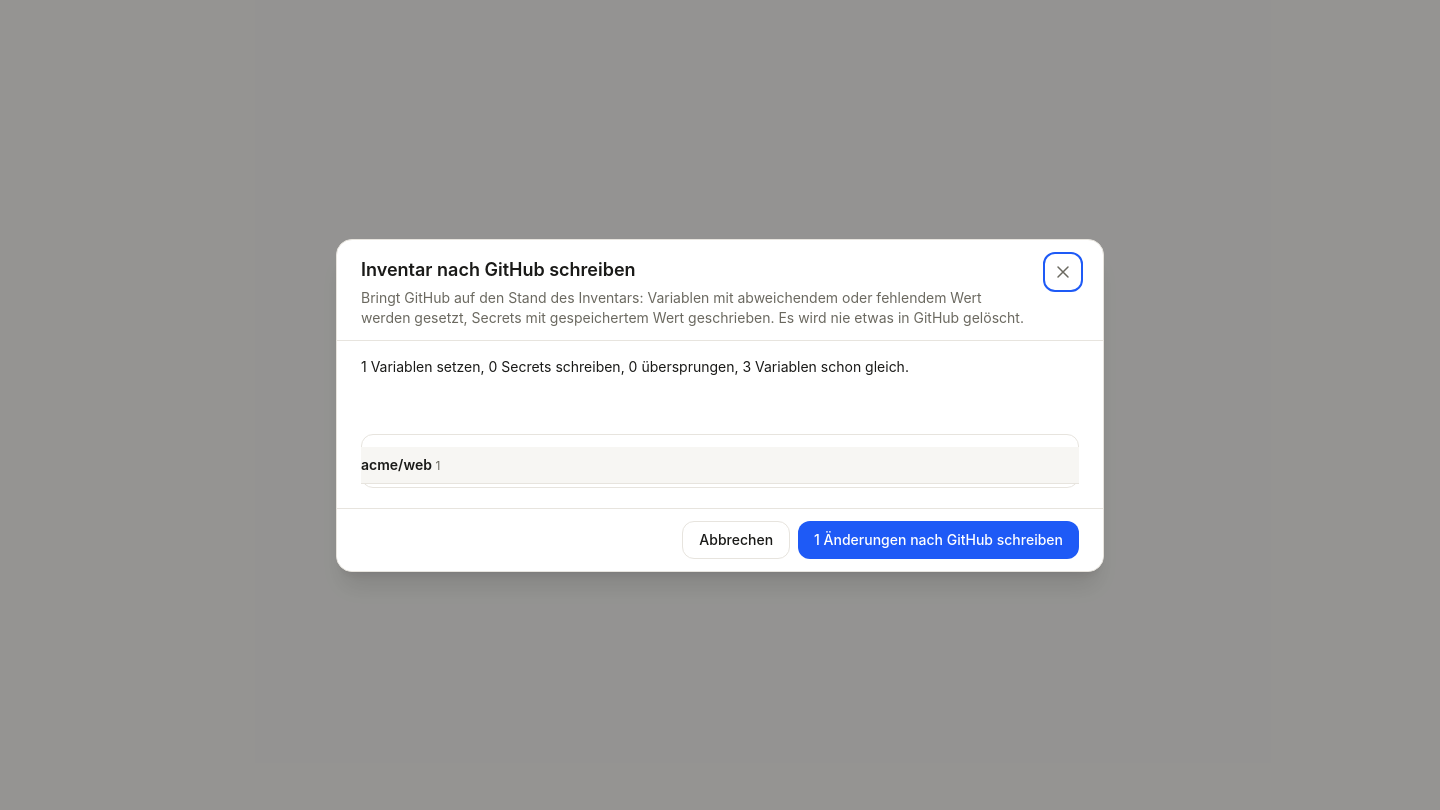
Test: SyncToGitHubDialog run › does not close while running
Click the button "1 Änderungen nach GitHub schreiben".
click(939, 540)  # box x1=798 y1=520 x2=1079 y2=558
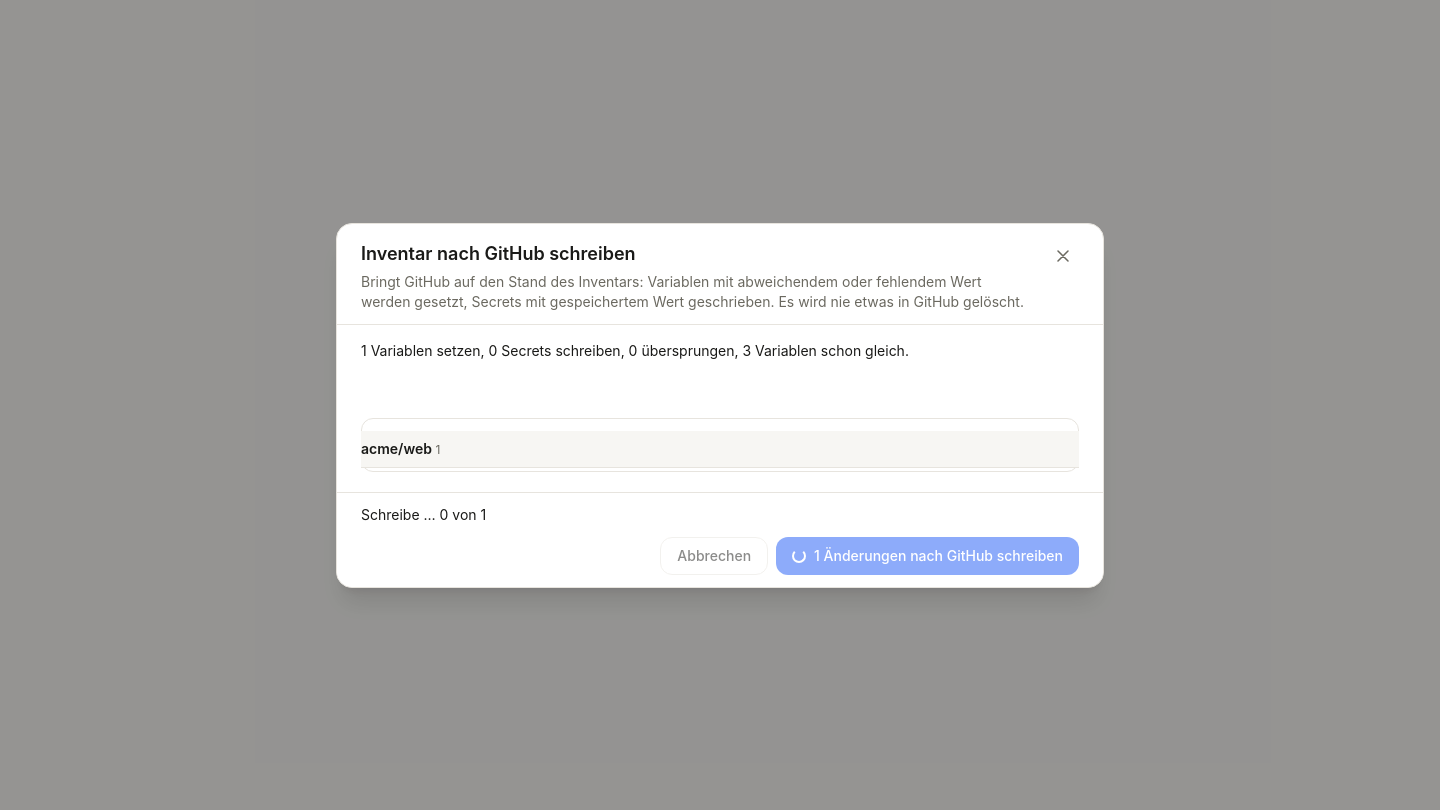
Expected: the text "Schreibe … 0 von 1" is shown, x1=361 y1=506 x2=486 y2=522
Press Escape
Click the button named "Dialog schließen".
click(1063, 256)  # box x1=1047 y1=240 x2=1079 y2=272
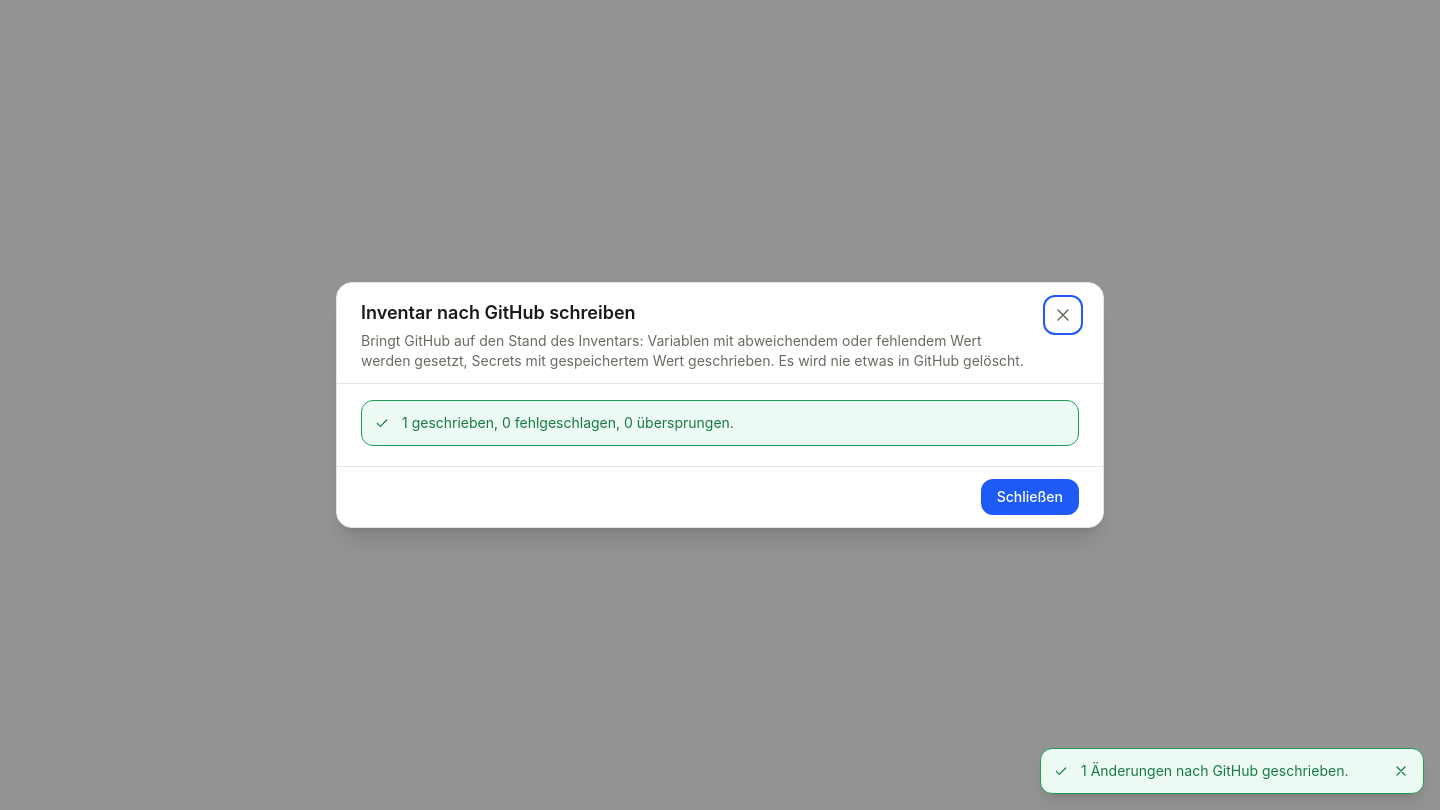
Expected: the text "1 geschrieben, 0 fehlgeschlagen, 0 übersprungen." is shown, x1=402 y1=414 x2=734 y2=431
